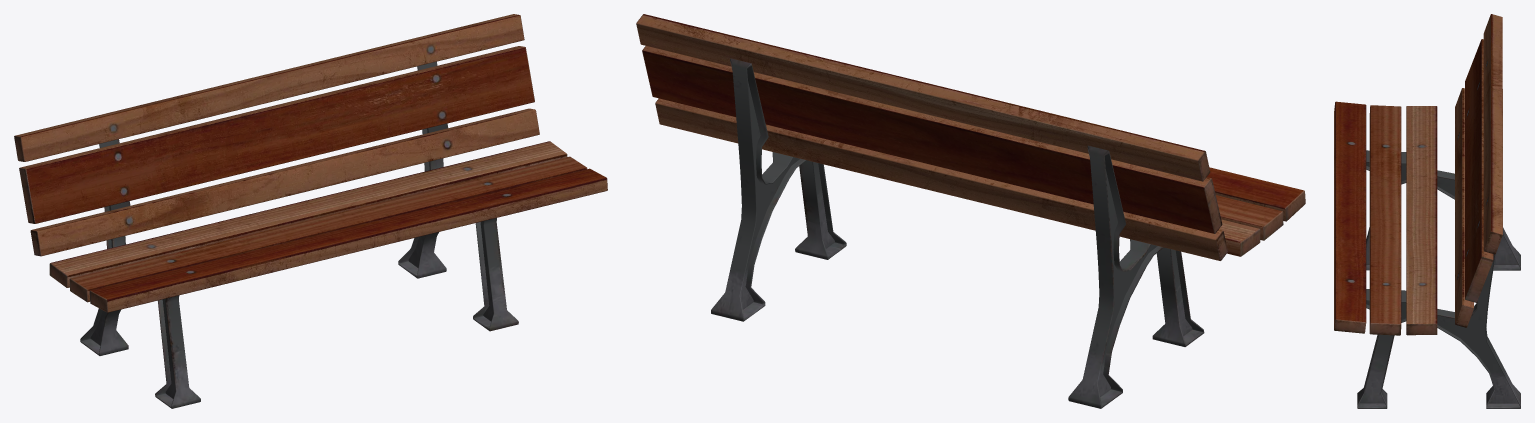
Rendered from bench.glb.
3 views of the same model, side by side, from view 1: azimuth 30°, elevation 25°; view 2: azimuth 150°, elevation 25°; view 3: azimuth 270°, elevation 25° (orthographic). The views are drawn at different scales.
Parts seen in each view (by area): view 1: Cube.002; view 2: Cube.002; view 3: Cube.002.
Part boxes in pixels (<box>): Cube.002: <box>14,14,607,408</box>; Cube.002: <box>636,14,1305,408</box>; Cube.002: <box>1334,14,1520,408</box>.
Size of the model in its own units: 1.12 by 0.5036 by 0.4049.
3 materials, 3 textured.
